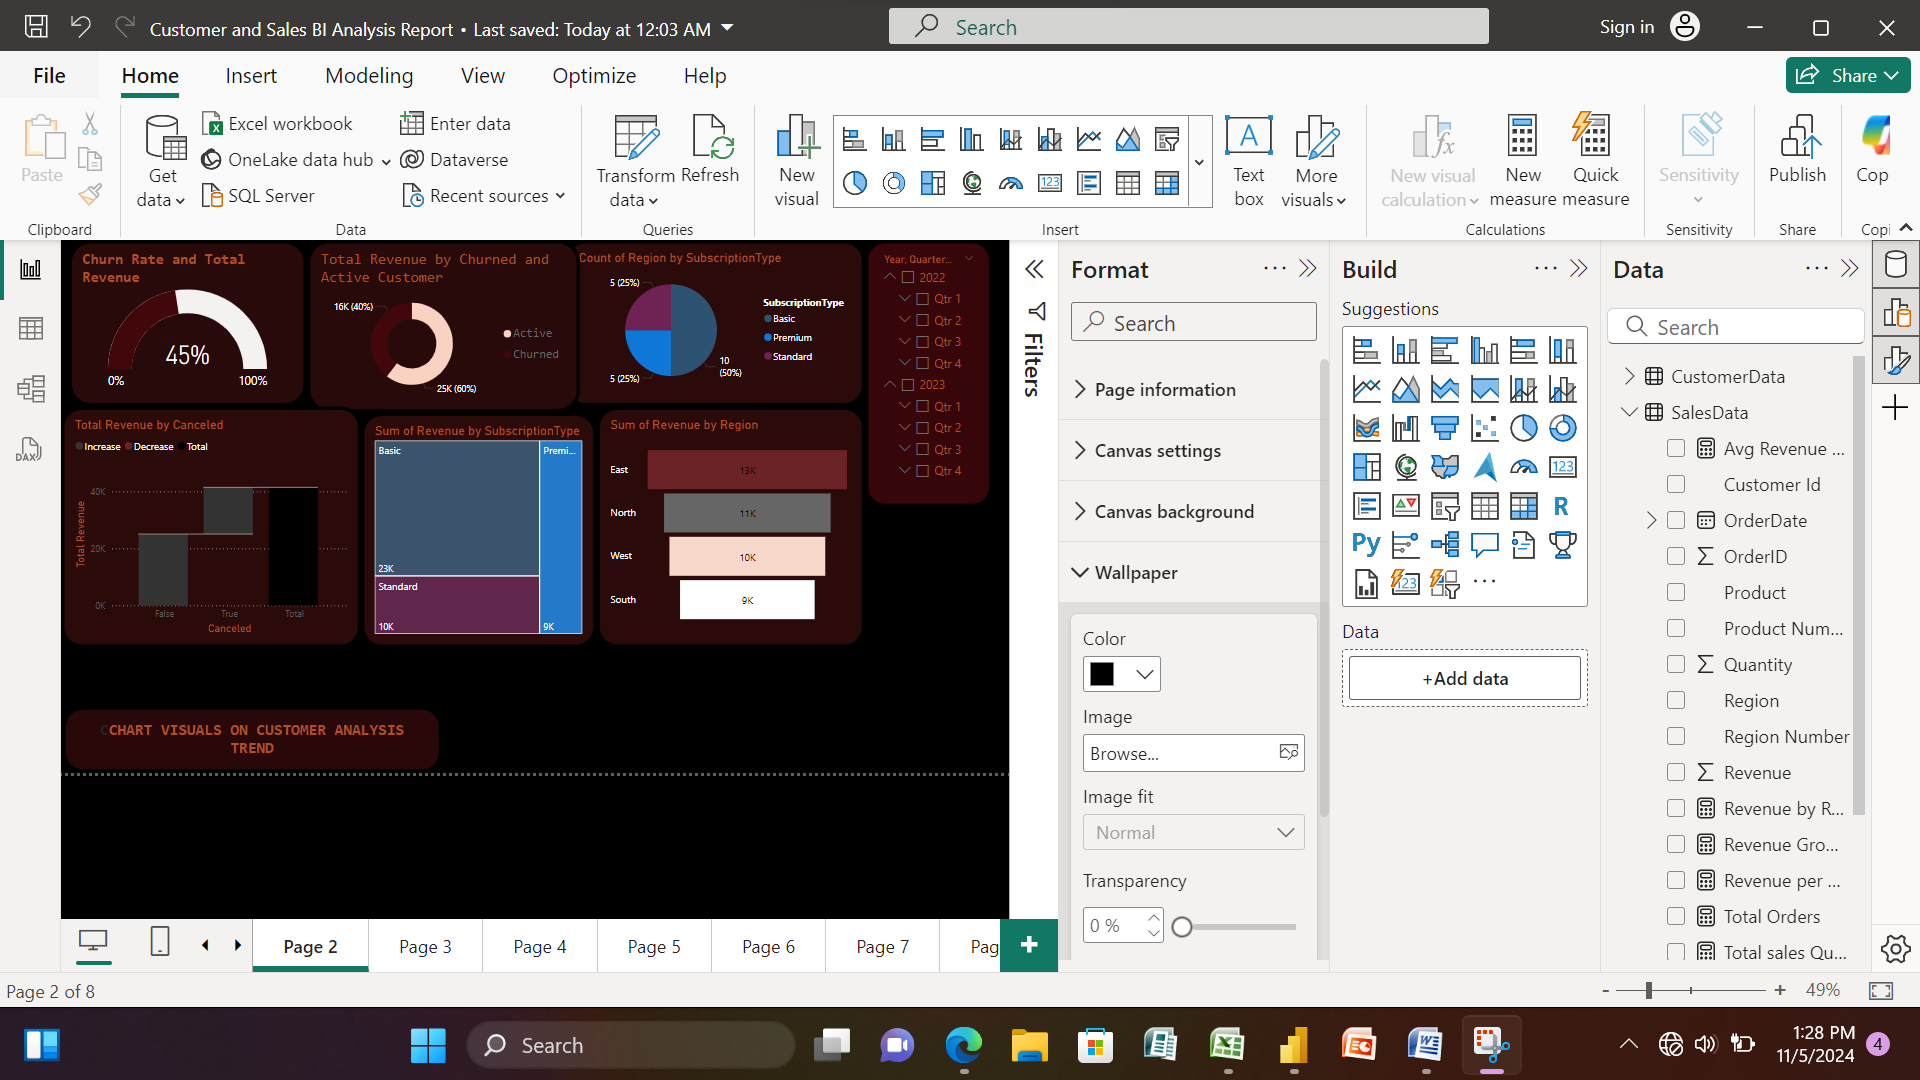

The page's visual inventory and layout, read from the dashboard file:
{"tool":"powerbi","page":{"name":"Page 2","canvas":[1280,720],"ordinal":1},"visuals":[{"type":"pieChart","fields":{"Category":["CustomerData.SubscriptionType"],"Y":["CountNonNull(CustomerData.Region)"]},"box":[680.5,0,405.1,224.8],"z":0},{"type":"gauge","fields":{"Y":["CustomerData.Churn Rate"],"TargetValue":["CustomerData.Total Revenue"]},"box":[10.1,0,322,224.8],"z":1000},{"type":"donutChart","title":"Total Revenue by Churned  and Active Customer","fields":{"Y":["CustomerData.Total Revenue"],"Category":["CustomerData.Status"]},"box":[332.2,0,368.6,232.9],"z":2000},{"type":"waterfallChart","fields":{"Category":["CustomerData.Canceled"],"Y":["CustomerData.Total Revenue"]},"box":[0,224.8,405.1,326.1],"z":3000},{"type":"funnel","fields":{"Category":["CustomerData.Region","CustomerData.SubscriptionType"],"Y":["Sum(CustomerData.Revenue)"]},"box":[723,224.8,362.5,326.1],"z":4000},{"type":"treemap","fields":{"Values":["Sum(CustomerData.Revenue)"],"Group":["CustomerData.SubscriptionType"]},"box":[405.1,232.9,318,318],"z":5000},{"type":"slicer","fields":{"Values":["CustomerData.Subsciption start date.Variation.Date Hierarchy.Year","CustomerData.Subsciption start date.Variation.Date Hierarchy.Quarter","CustomerData.Subsciption start date.Variation.Date Hierarchy.Month","CustomerData.Subsciption start date.Variation.Date Hierarchy.Day"]},"box":[1085.6,0,172.2,360.5],"z":6000},{"type":"textbox","box":[0,627.8,516.5,93.2],"z":7000}]}

Visuals, with their boxes on the page's 1280x720 design canvas (x1, y1, x2, y2). These are canvas units, not pixel positions in the 1920x1080 screenshot, which may show the page scaled, cropped or inside an application window:
pieChart - CustomerData.SubscriptionType x CountNonNull(CustomerData.Region): l=680, t=0, r=1086, b=225
gauge - CustomerData.Churn Rate x CustomerData.Total Revenue: l=10, t=0, r=332, b=225
"Total Revenue by Churned  and Active Customer" donutChart: l=332, t=0, r=701, b=233
waterfallChart - CustomerData.Canceled x CustomerData.Total Revenue: l=0, t=225, r=405, b=551
funnel - CustomerData.Region x CustomerData.SubscriptionType: l=723, t=225, r=1086, b=551
treemap - Sum(CustomerData.Revenue) x CustomerData.SubscriptionType: l=405, t=233, r=723, b=551
slicer - CustomerData.Subsciption start date.Variation.Date Hierarchy.Year x CustomerData.Subsciption start date.Variation.Date Hierarchy.Quarter: l=1086, t=0, r=1258, b=360
textbox: l=0, t=628, r=516, b=721
